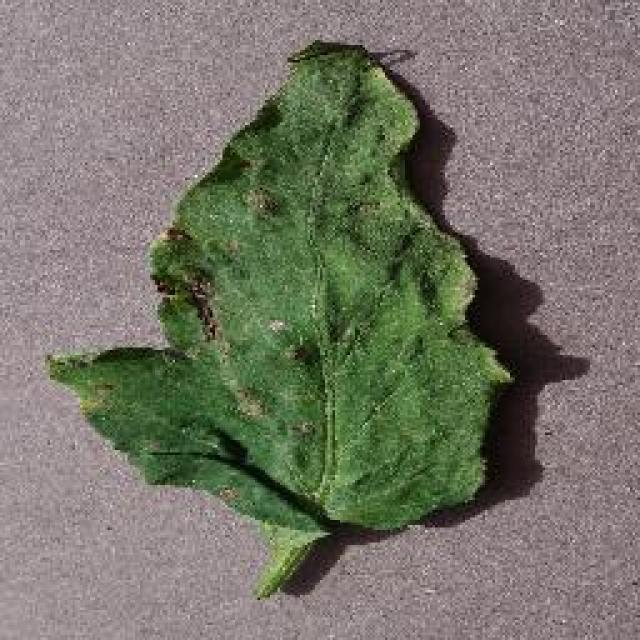Tomato Septoria spot leaf: (45, 30, 507, 538)
